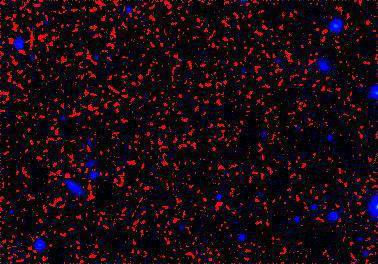star: (75, 45, 105, 75)
